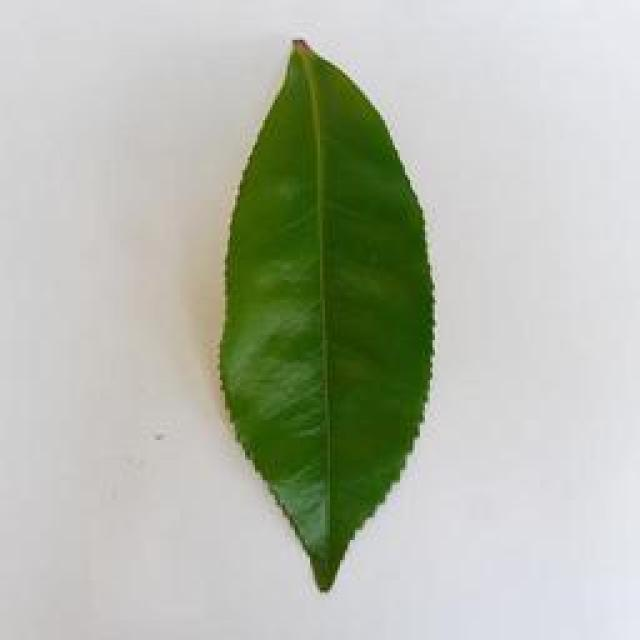Healthy: (207, 22, 470, 588)
